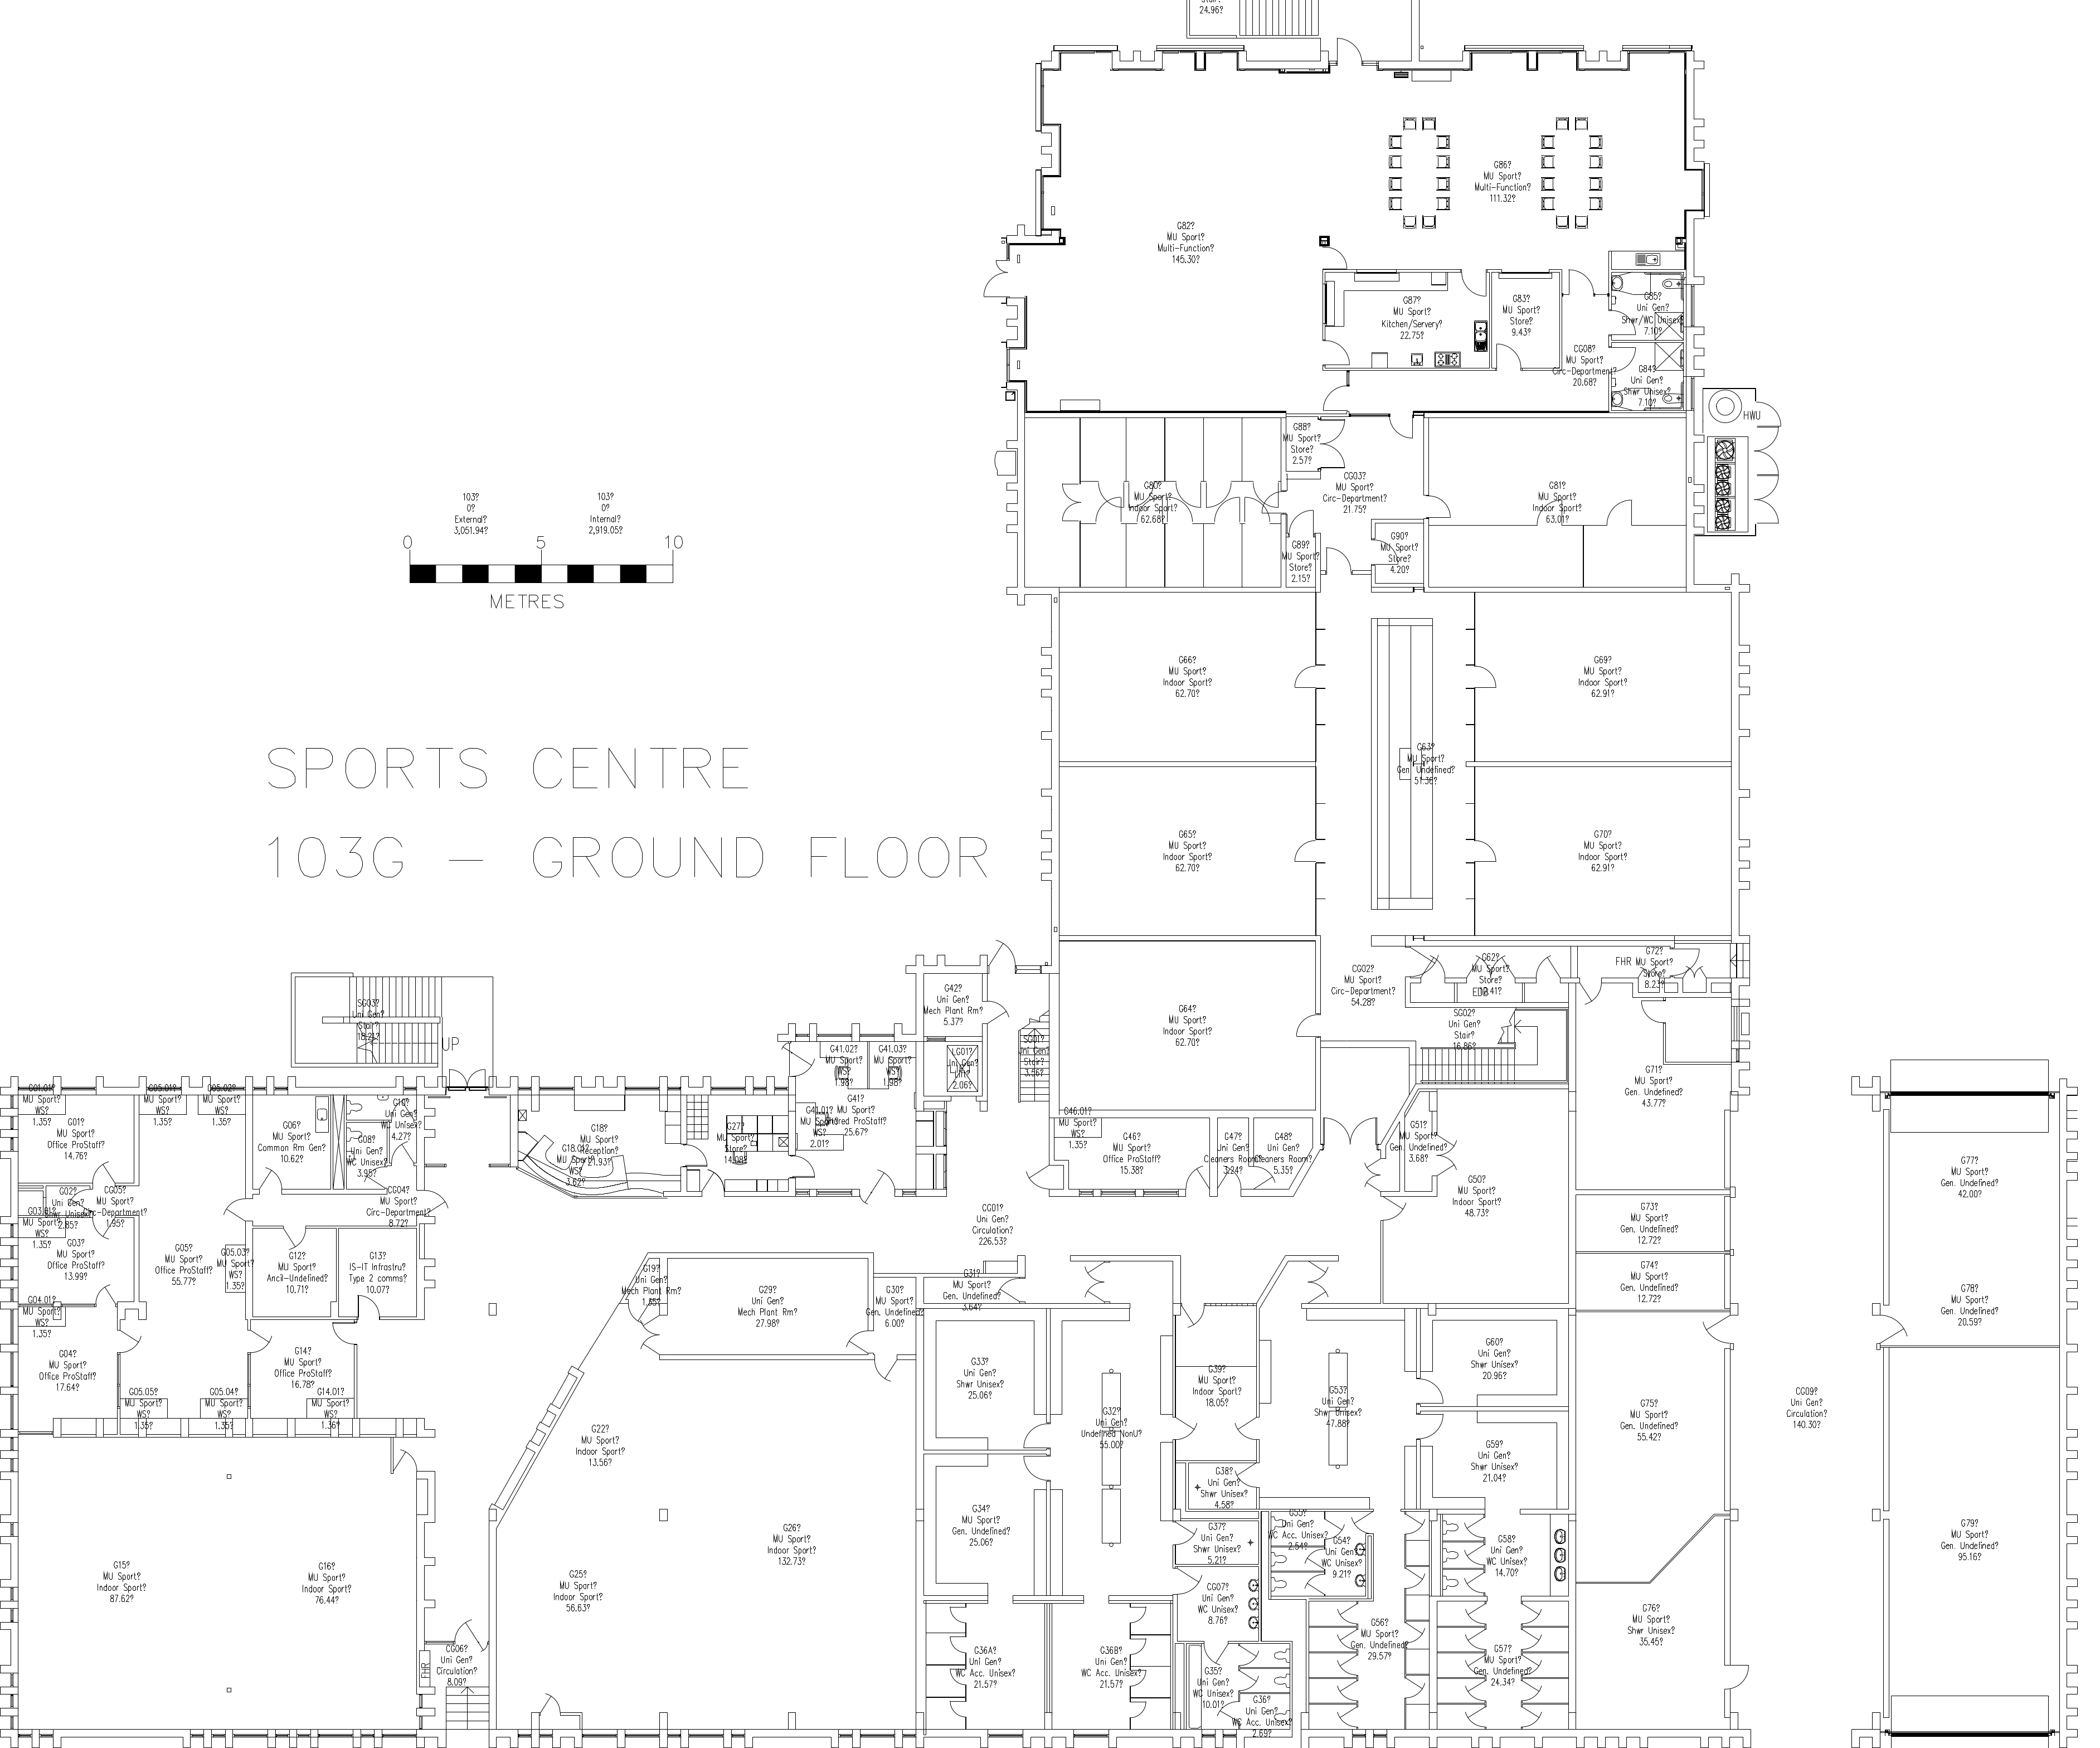text: (405, 1624, 518, 1710), (23, 1083, 117, 1167), (136, 1075, 249, 1136), (274, 1345, 358, 1427), (535, 1553, 626, 1628), (73, 1551, 180, 1612), (295, 1547, 375, 1626), (1926, 1270, 2011, 1343), (1209, 1130, 1312, 1185), (347, 1106, 422, 1179), (258, 1110, 338, 1178), (1613, 1588, 1695, 1654), (1933, 1511, 2016, 1572), (727, 1277, 811, 1338), (619, 1247, 692, 1317), (544, 1120, 630, 1179), (1608, 1394, 1690, 1455), (1455, 1432, 1530, 1499), (1615, 1057, 1690, 1123), (961, 1195, 1052, 1247), (938, 1500, 1024, 1554), (1080, 1399, 1153, 1462), (1151, 989, 1219, 1055), (764, 1511, 827, 1582), (951, 1633, 1024, 1694), (1341, 1608, 1416, 1668), (342, 1246, 417, 1305), (1322, 961, 1404, 1015), (1777, 1378, 1844, 1444), (1078, 1633, 1142, 1701), (855, 1279, 935, 1331), (1181, 1357, 1251, 1415), (38, 1233, 115, 1286), (567, 1410, 628, 1474), (1259, 1500, 1331, 1554), (190, 1378, 253, 1439), (1387, 1111, 1449, 1172), (954, 1349, 1020, 1406), (815, 1096, 895, 1143), (1934, 1148, 2004, 1202), (1191, 1455, 1252, 1516), (33, 1343, 106, 1394), (148, 1237, 215, 1293), (1465, 1336, 1530, 1392), (1608, 940, 1681, 989), (33, 1178, 85, 1246), (1613, 1198, 1688, 1246), (1181, 1518, 1251, 1568), (706, 1116, 766, 1176), (1481, 1526, 1537, 1589), (115, 1376, 178, 1432), (1613, 1256, 1685, 1305), (274, 1242, 333, 1300), (1273, 529, 1331, 588), (1474, 154, 1531, 213), (1472, 1636, 1533, 1692), (1573, 647, 1629, 708), (1547, 338, 1617, 387), (1380, 291, 1444, 344), (940, 1267, 1012, 1314), (1160, 820, 1219, 876), (1572, 816, 1633, 871), (1395, 741, 1456, 795), (1156, 647, 1217, 701), (351, 987, 391, 1069), (1620, 288, 1685, 338), (1102, 1127, 1163, 1179), (1183, 1579, 1245, 1629), (1315, 1526, 1369, 1584), (370, 1183, 433, 1232), (924, 980, 987, 1029), (1186, 1661, 1242, 1715), (1235, 1687, 1294, 1738), (1326, 469, 1390, 515), (80, 1185, 150, 1226), (1008, 1028, 1060, 1083), (1130, 473, 1181, 530), (818, 1031, 869, 1087), (1528, 478, 1587, 525), (1448, 1172, 1509, 1218), (1313, 1382, 1360, 1437), (1052, 1104, 1108, 1151), (940, 1048, 991, 1099), (1158, 223, 1219, 265), (1617, 358, 1669, 406), (1467, 946, 1510, 1001), (1378, 525, 1420, 581), (1446, 1001, 1486, 1057), (21, 1294, 72, 1338), (872, 1040, 917, 1087), (1502, 290, 1545, 338), (1280, 419, 1322, 469), (794, 1101, 842, 1143), (218, 1240, 253, 1298)
